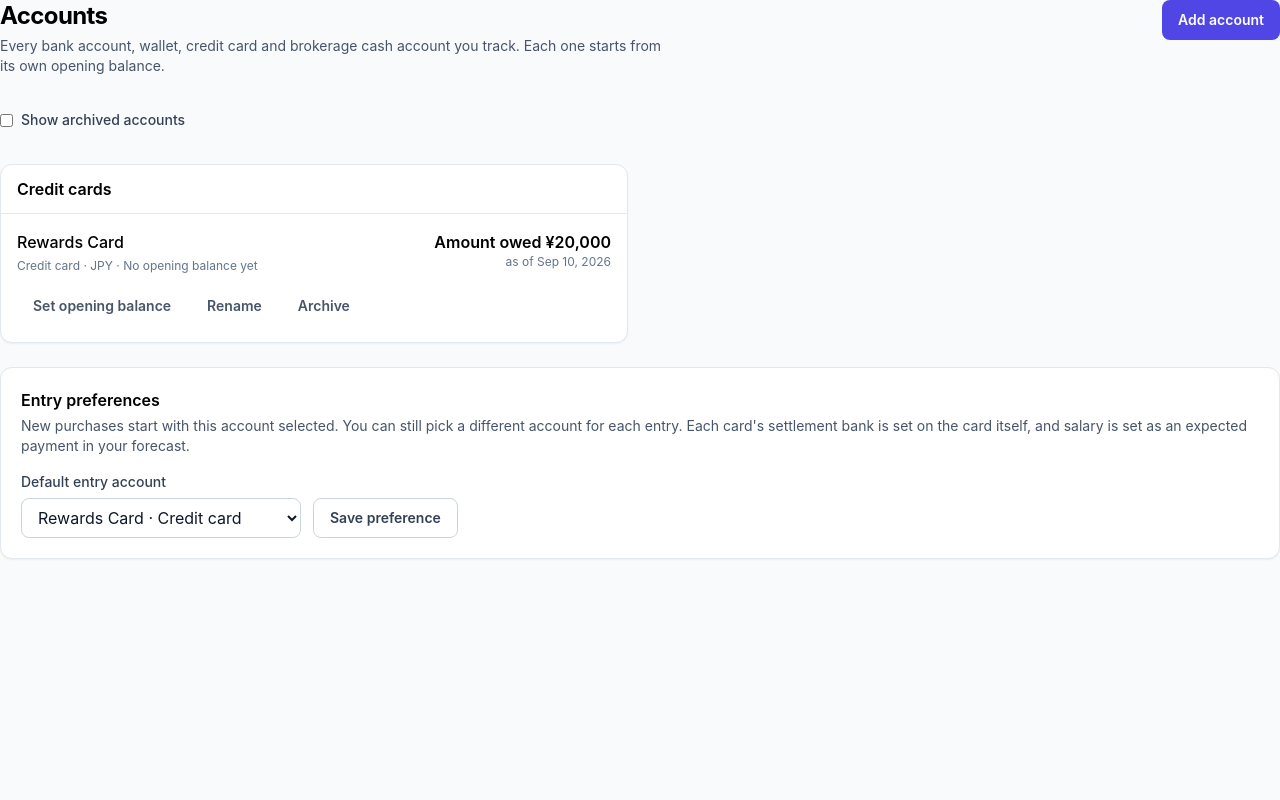
Scenario: converts a card amount owed to the server sign and defaults to the server local date
Click the button named "Set opening balance for Rewards Card" at {"x": 102, "y": 306}, box left=17, top=286, right=187, bottom=326
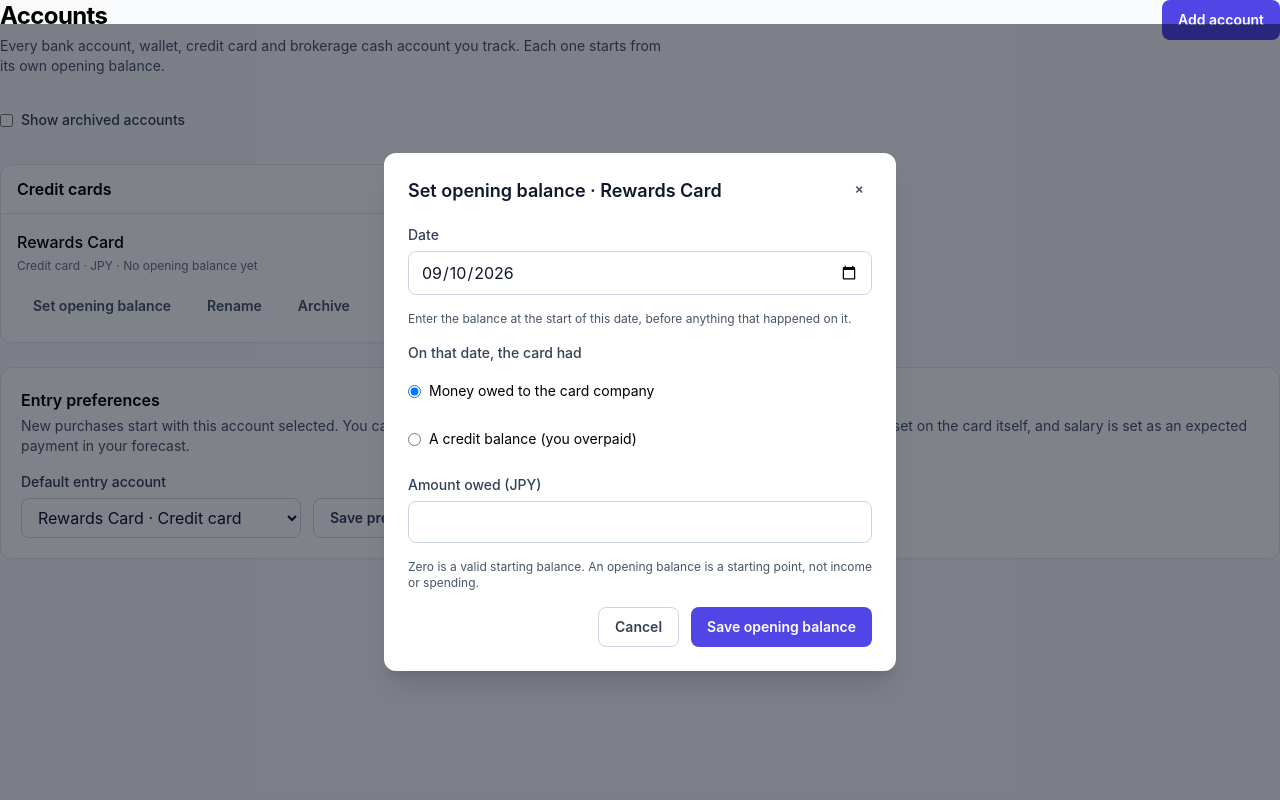
Expected: the date field labelled "Date" holds "2026-09-10", left=408, top=251, right=872, bottom=295
Expected: the text "balance at the start of this date" is shown, left=408, top=311, right=851, bottom=326
Type "15000" into the field labelled "Amount owed (JPY)" at {"x": 640, "y": 522}, box left=408, top=501, right=872, bottom=543
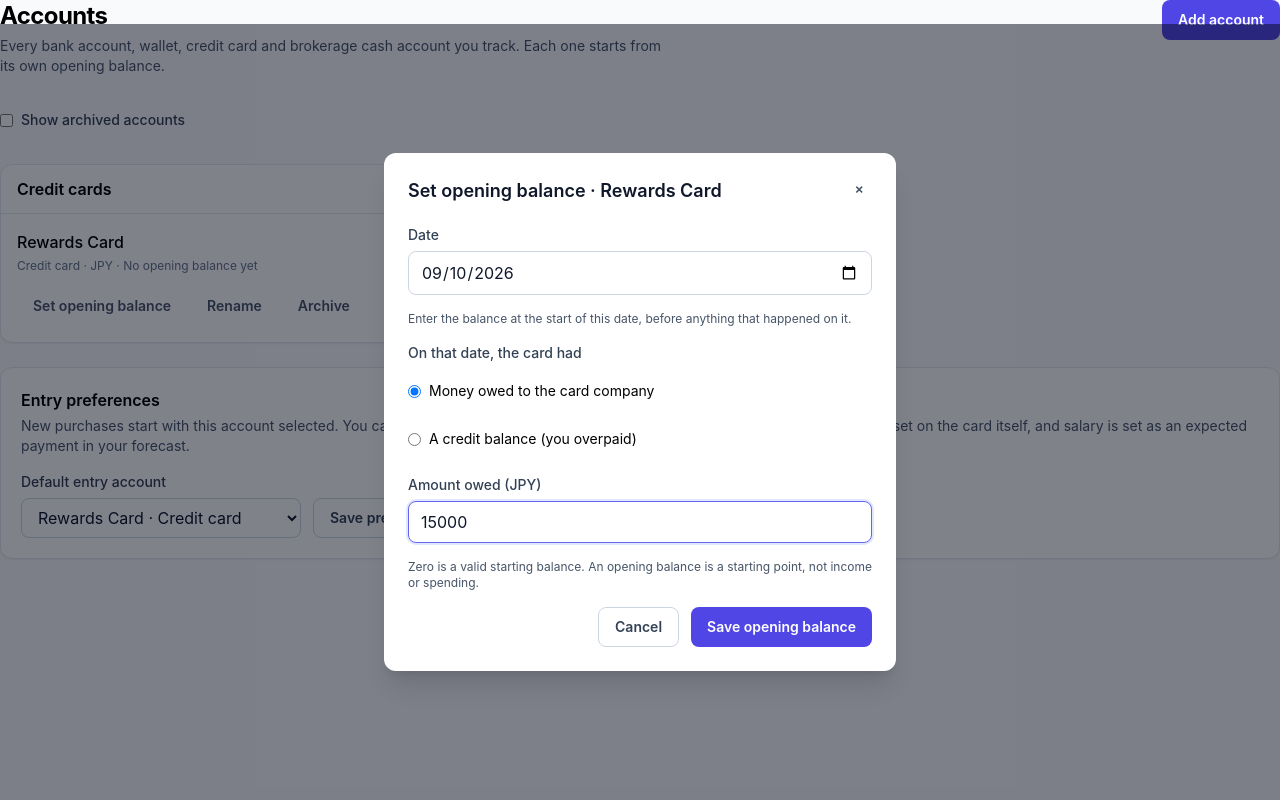
Click the button "Save opening balance" at {"x": 782, "y": 627}, box left=691, top=607, right=872, bottom=647
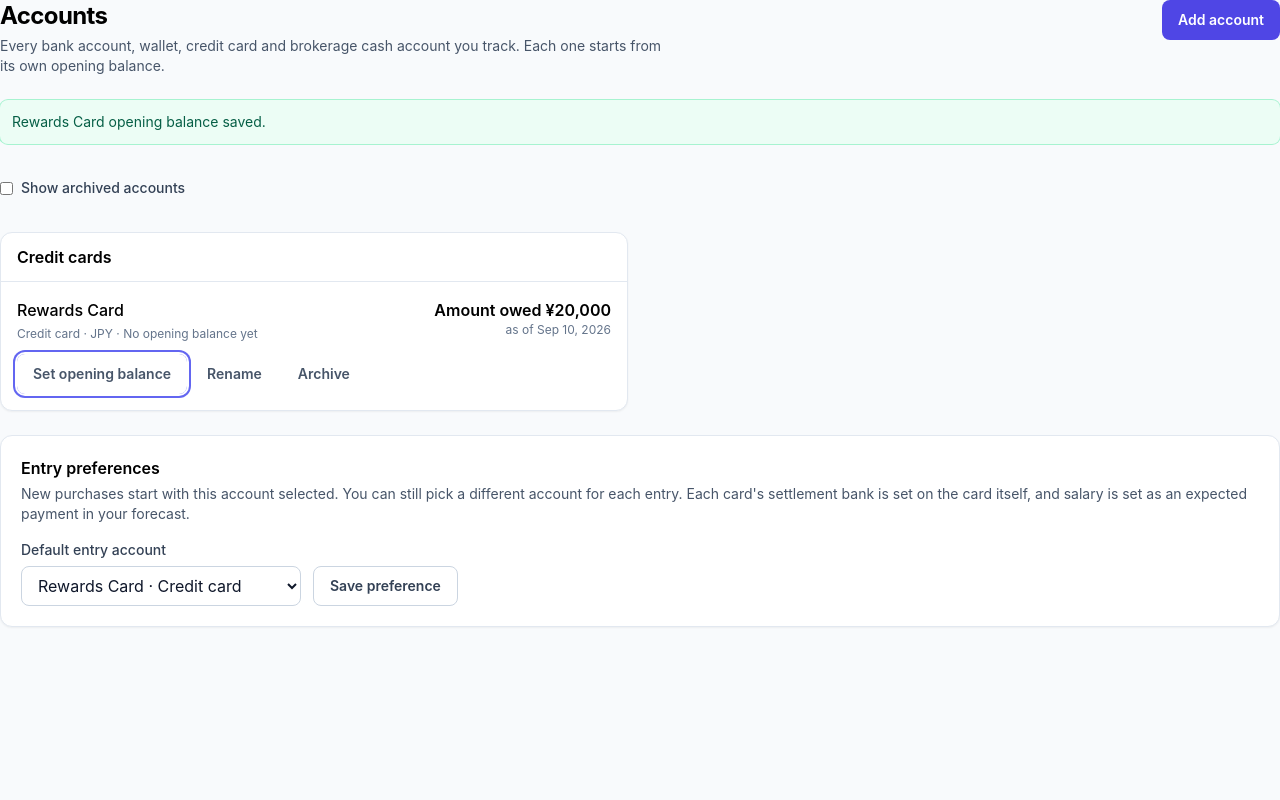
Expected: the text "Rewards Card opening balance saved." is shown, left=0, top=100, right=1279, bottom=144
